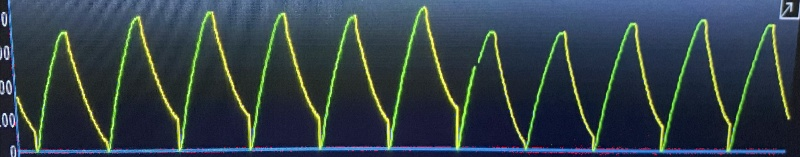leakage: (29, 0, 734, 156)
